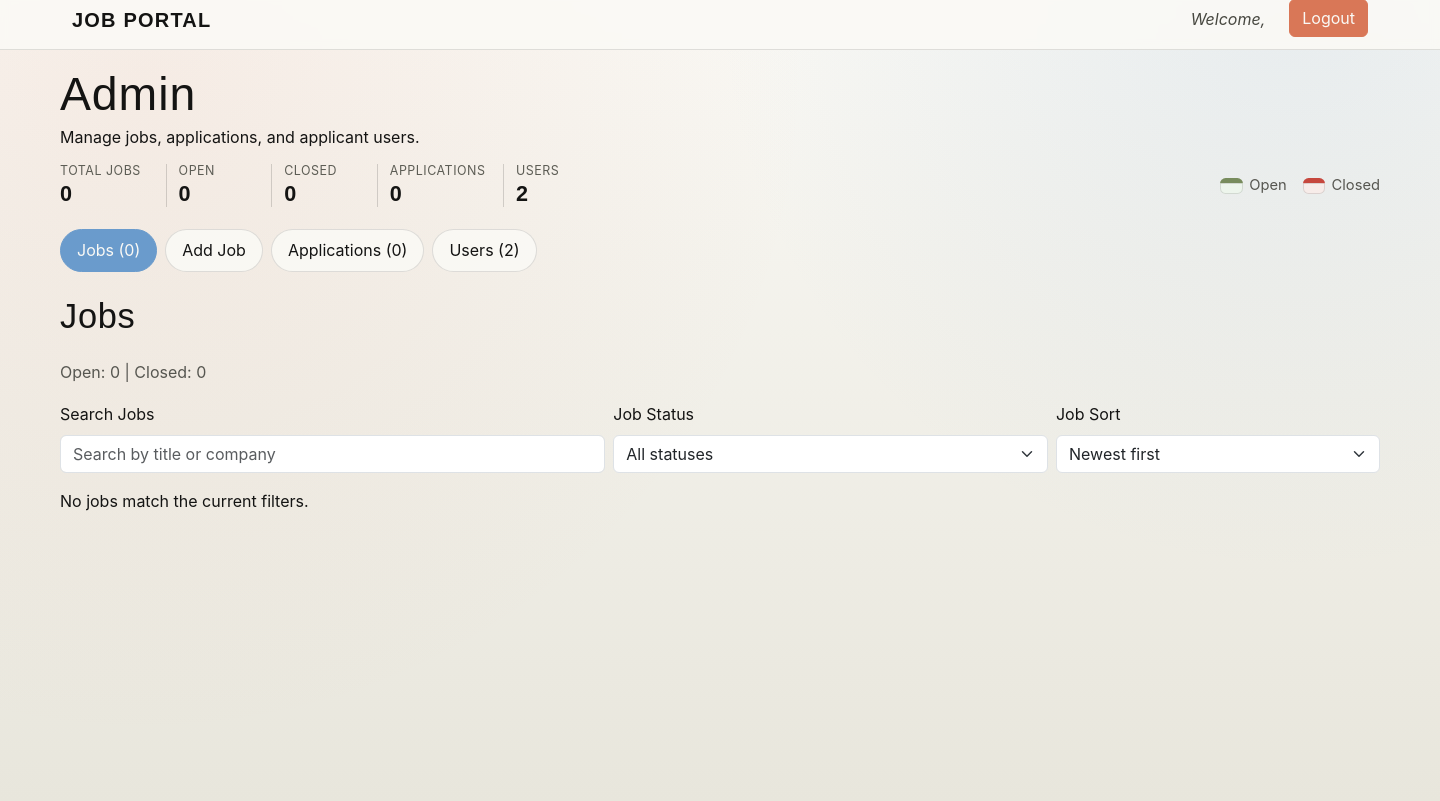
Test: AdminDashboard integration › disables applicant users through the admin users network flow
Click the tab "Users (2)" at (484, 251), box [432,229,536,272]
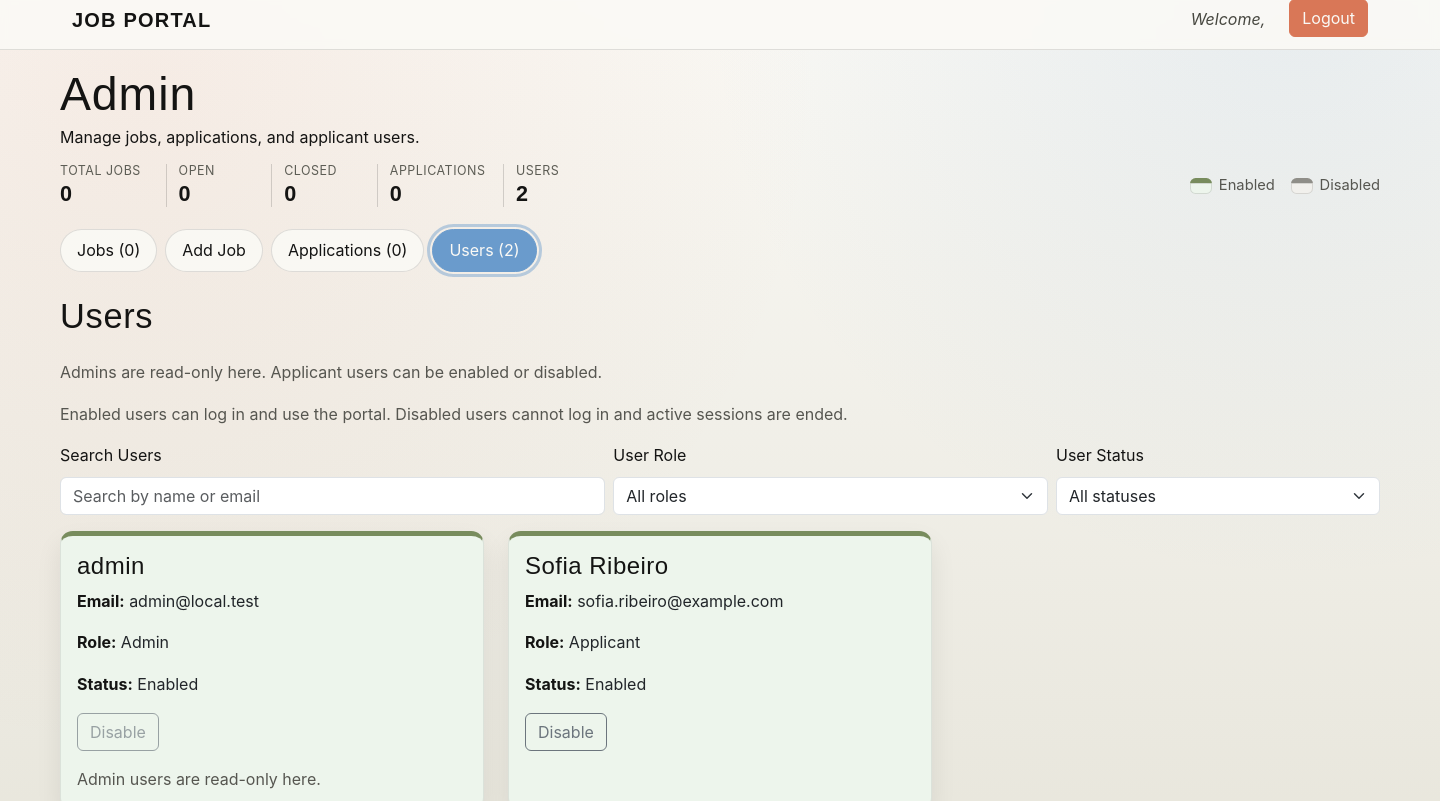
Expected: the text "Email:" next to "sofia.ribeiro@example.com" is shown, [525,591,573,611]
Expected: the text "Email: sofia.ribeiro@example.com" is shown, [525,591,784,611]
Expected: the text "Status:" below "sofia.ribeiro@example.com" is shown, [525,674,581,694]
Click the button "Disable" below "sofia.ribeiro@example.com" at (566, 732), box [525,713,607,751]
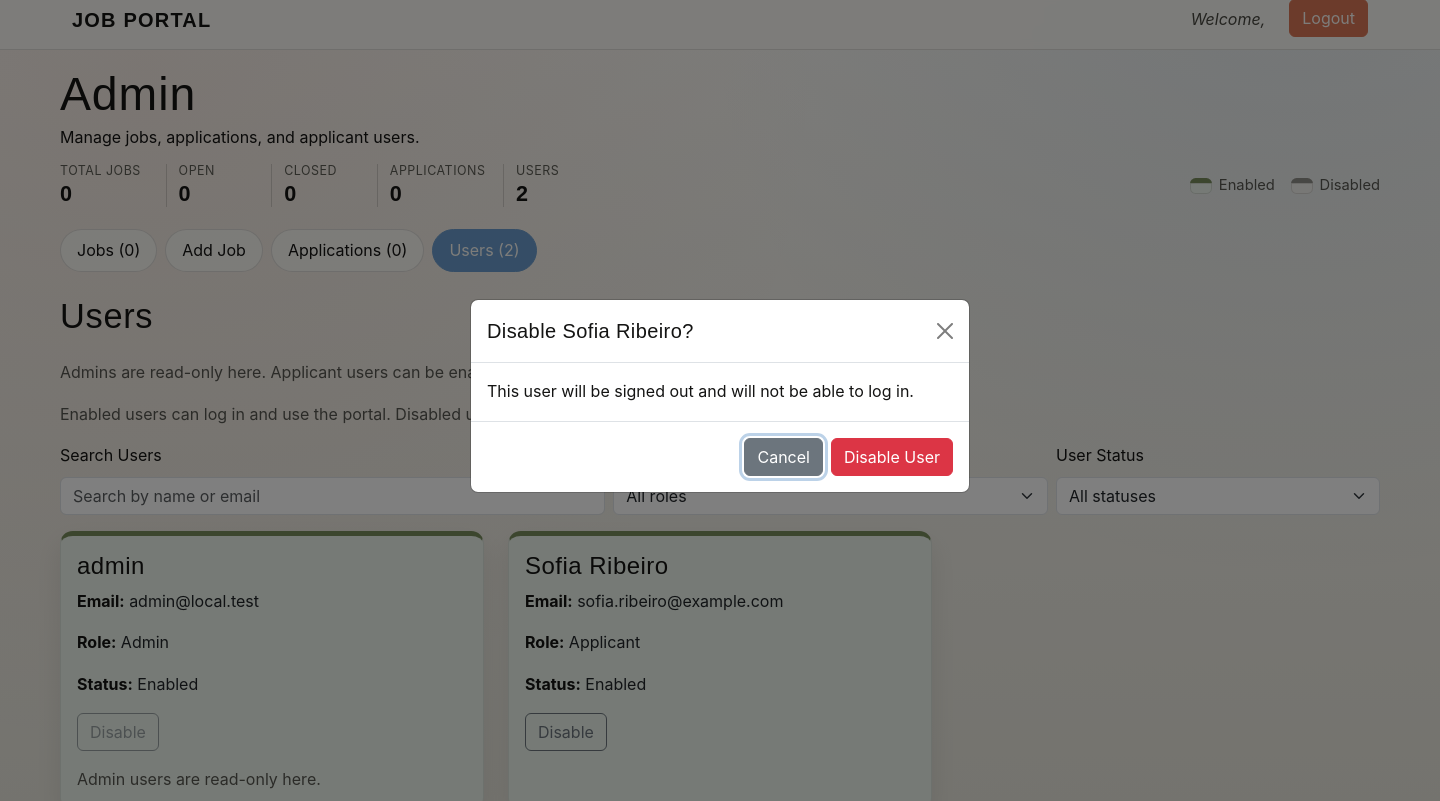
Expected: the text "This user will be signed out and will not be able to log in." is shown, [487,379,953,405]
Click the button "Disable User" at (892, 457), box [831,438,953,476]
(page scrolled)
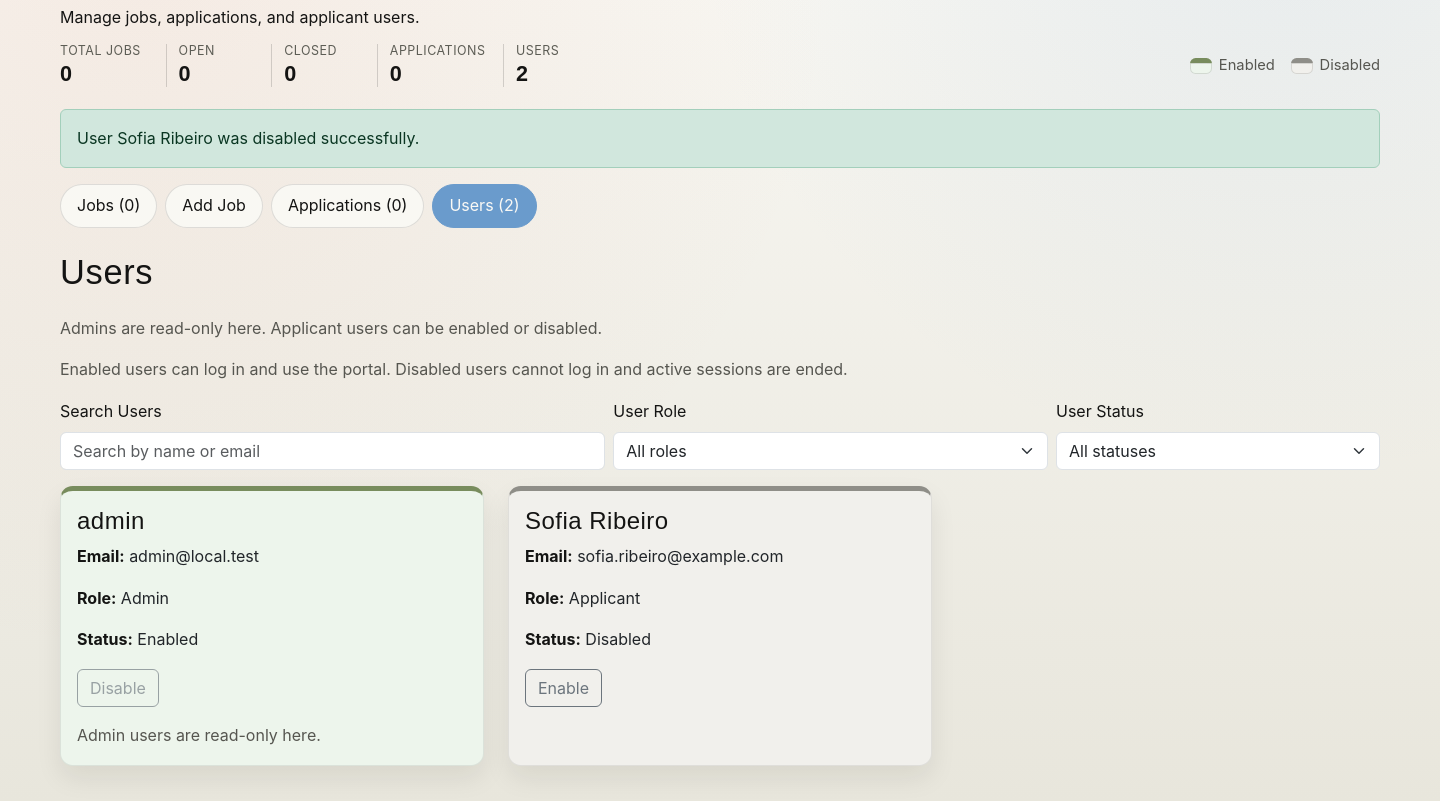
Expected: the text "User Sofia Ribeiro was disabled successfully." is shown, [60,109,1380,168]
Expected: the text "Status: Disabled" is shown, [525,629,651,649]
Expected: the button "Enable" is shown, [525,669,602,707]
